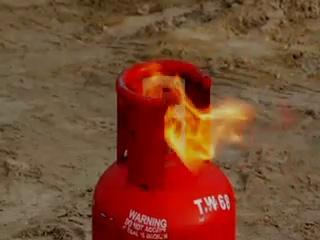Fire: (132, 54, 318, 189)
